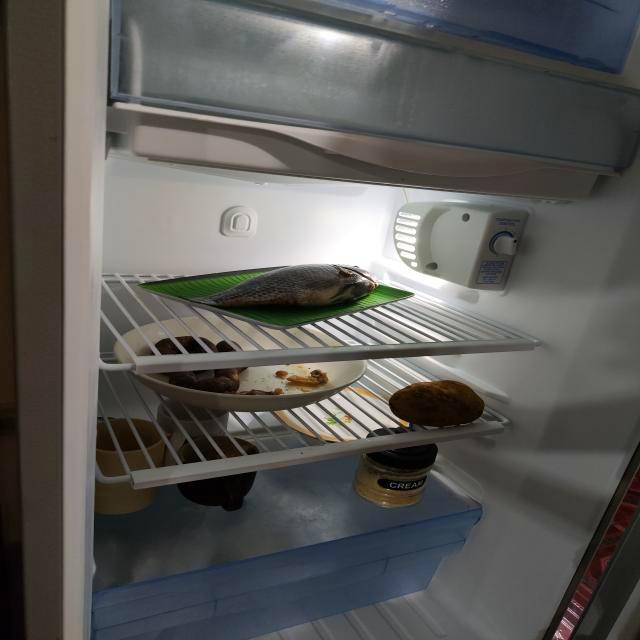fish: (192, 260, 378, 313)
potato: (391, 381, 487, 429)
